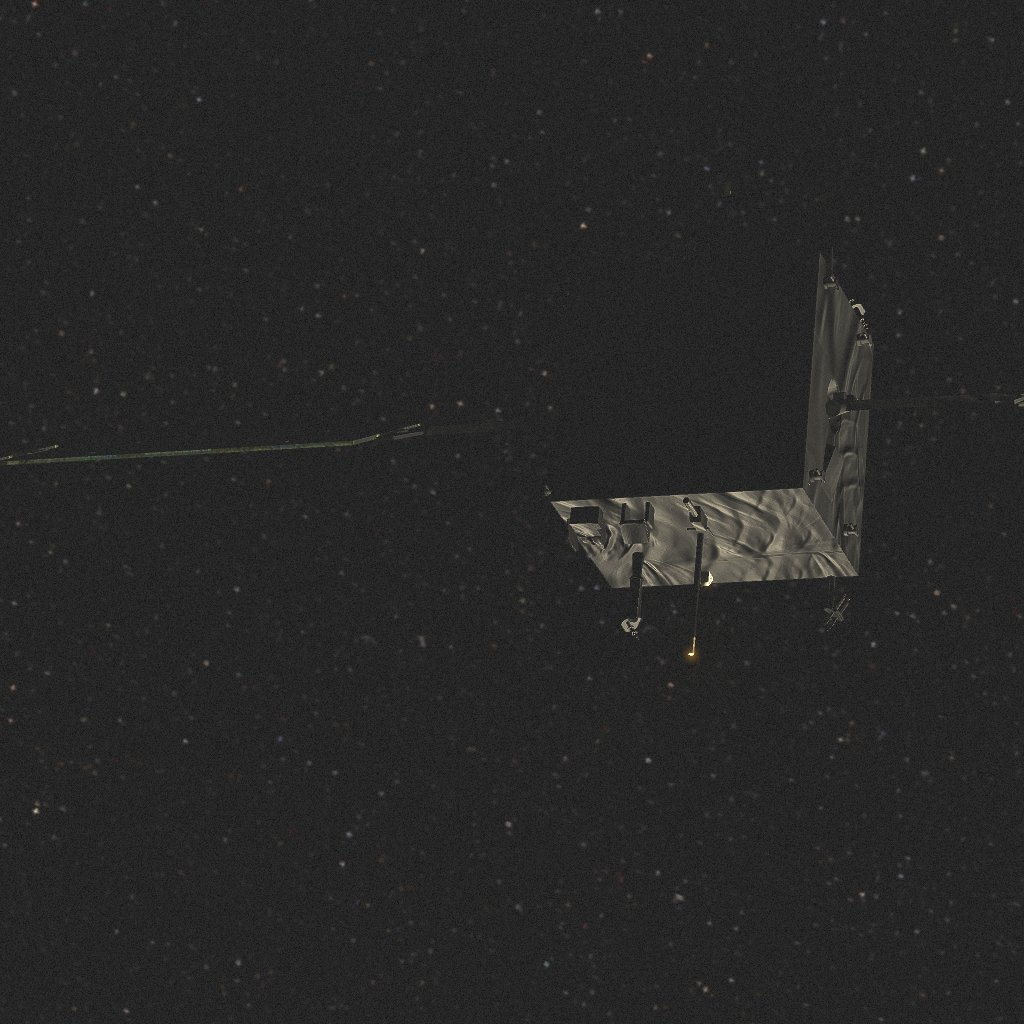smart_1: (0, 182, 1024, 655)
